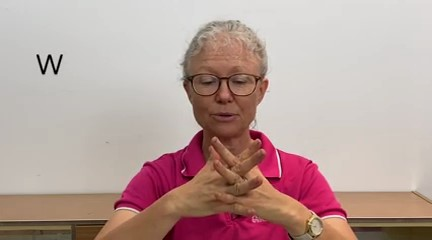W: (185, 130, 293, 229)
